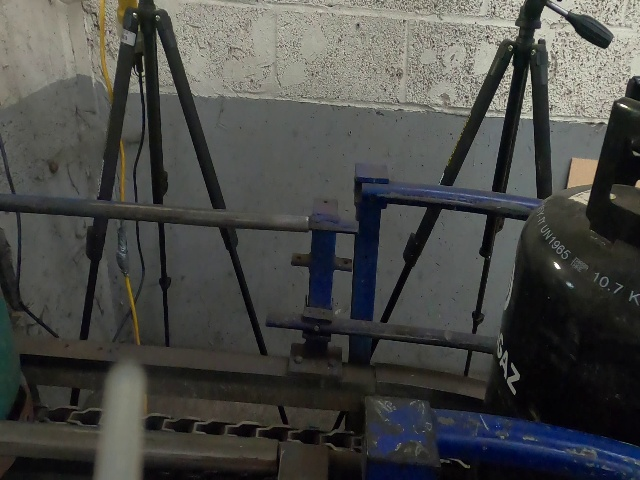gas_bottle: (2, 2, 638, 480)
